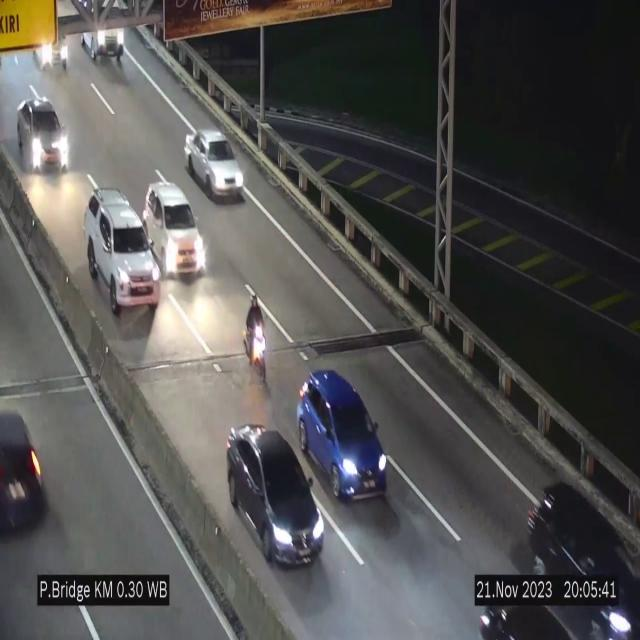Car: (522, 469, 640, 640), (227, 424, 325, 565), (296, 370, 388, 498), (80, 183, 162, 313), (0, 402, 60, 536), (472, 576, 578, 640), (143, 182, 206, 276), (184, 130, 244, 200), (17, 97, 66, 171), (81, 0, 130, 68), (28, 33, 68, 82)
Motorcycle: (242, 283, 272, 390)
